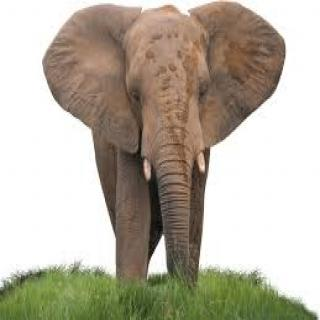Elephant: (41, 0, 294, 299)
